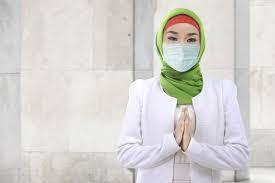Wearing Mask: (156, 10, 205, 72)
